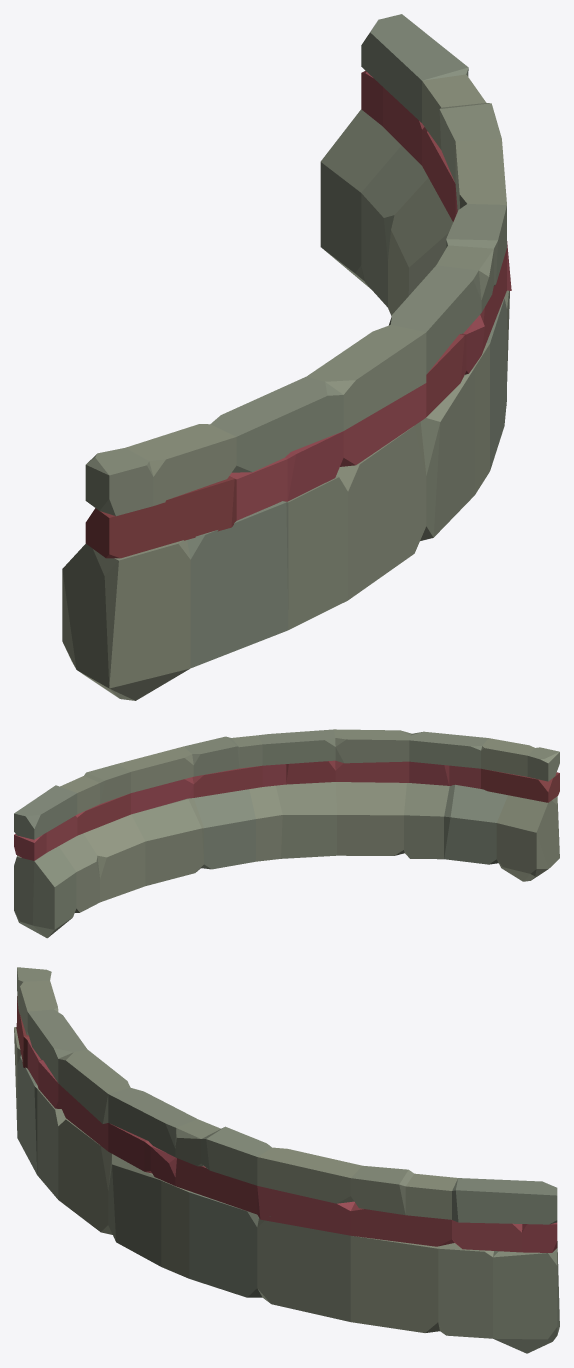
Rendered from railing_round_corner_4x4_conv.fbx.
3 views of the same model, one above another, from view 1: azimuth 30°, elevation 25°; view 2: azimuth 150°, elevation 25°; view 3: azimuth 270°, elevation 25° (orthographic). The views are drawn at different scales.
Parts seen in each view (by area): view 1: railing_round_corner_4x4_conv; view 2: railing_round_corner_4x4_conv; view 3: railing_round_corner_4x4_conv.
Part boxes in pixels (x1=…): railing_round_corner_4x4_conv: x1=62, y1=14, x2=511, y2=700; railing_round_corner_4x4_conv: x1=14, y1=729, x2=559, y2=938; railing_round_corner_4x4_conv: x1=14, y1=967, x2=559, y2=1353.
Bounding box in the file's own units: 429 × 152 × 429.
